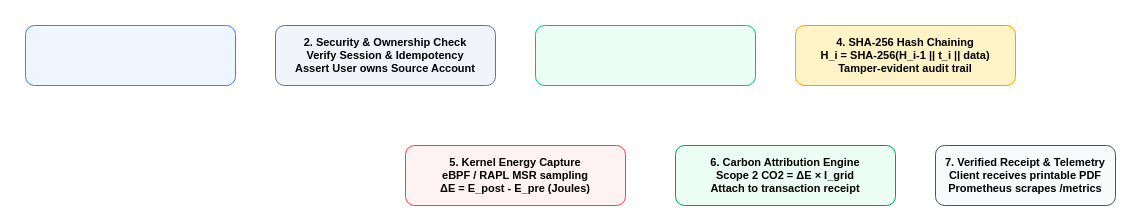
Image size: 1133x223. Some labels were removed from this diagram. Each missing label, with the centre of its shape:
1. Client Request POST /payment/transfer Headers: Idempotency-Key, Bearer JWT: pixel 130 55
3. Atomic Financial Ledger Single Commit Transaction Debit DR == Credit CR: pixel 645 55
